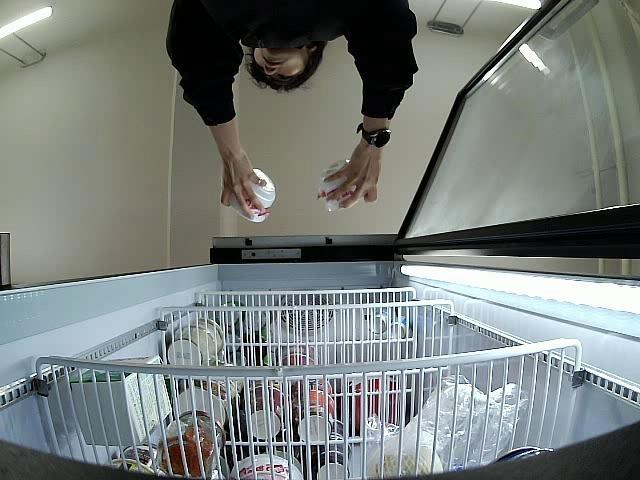09_yukGaeJang: (229, 168, 276, 224), (319, 162, 362, 214)
